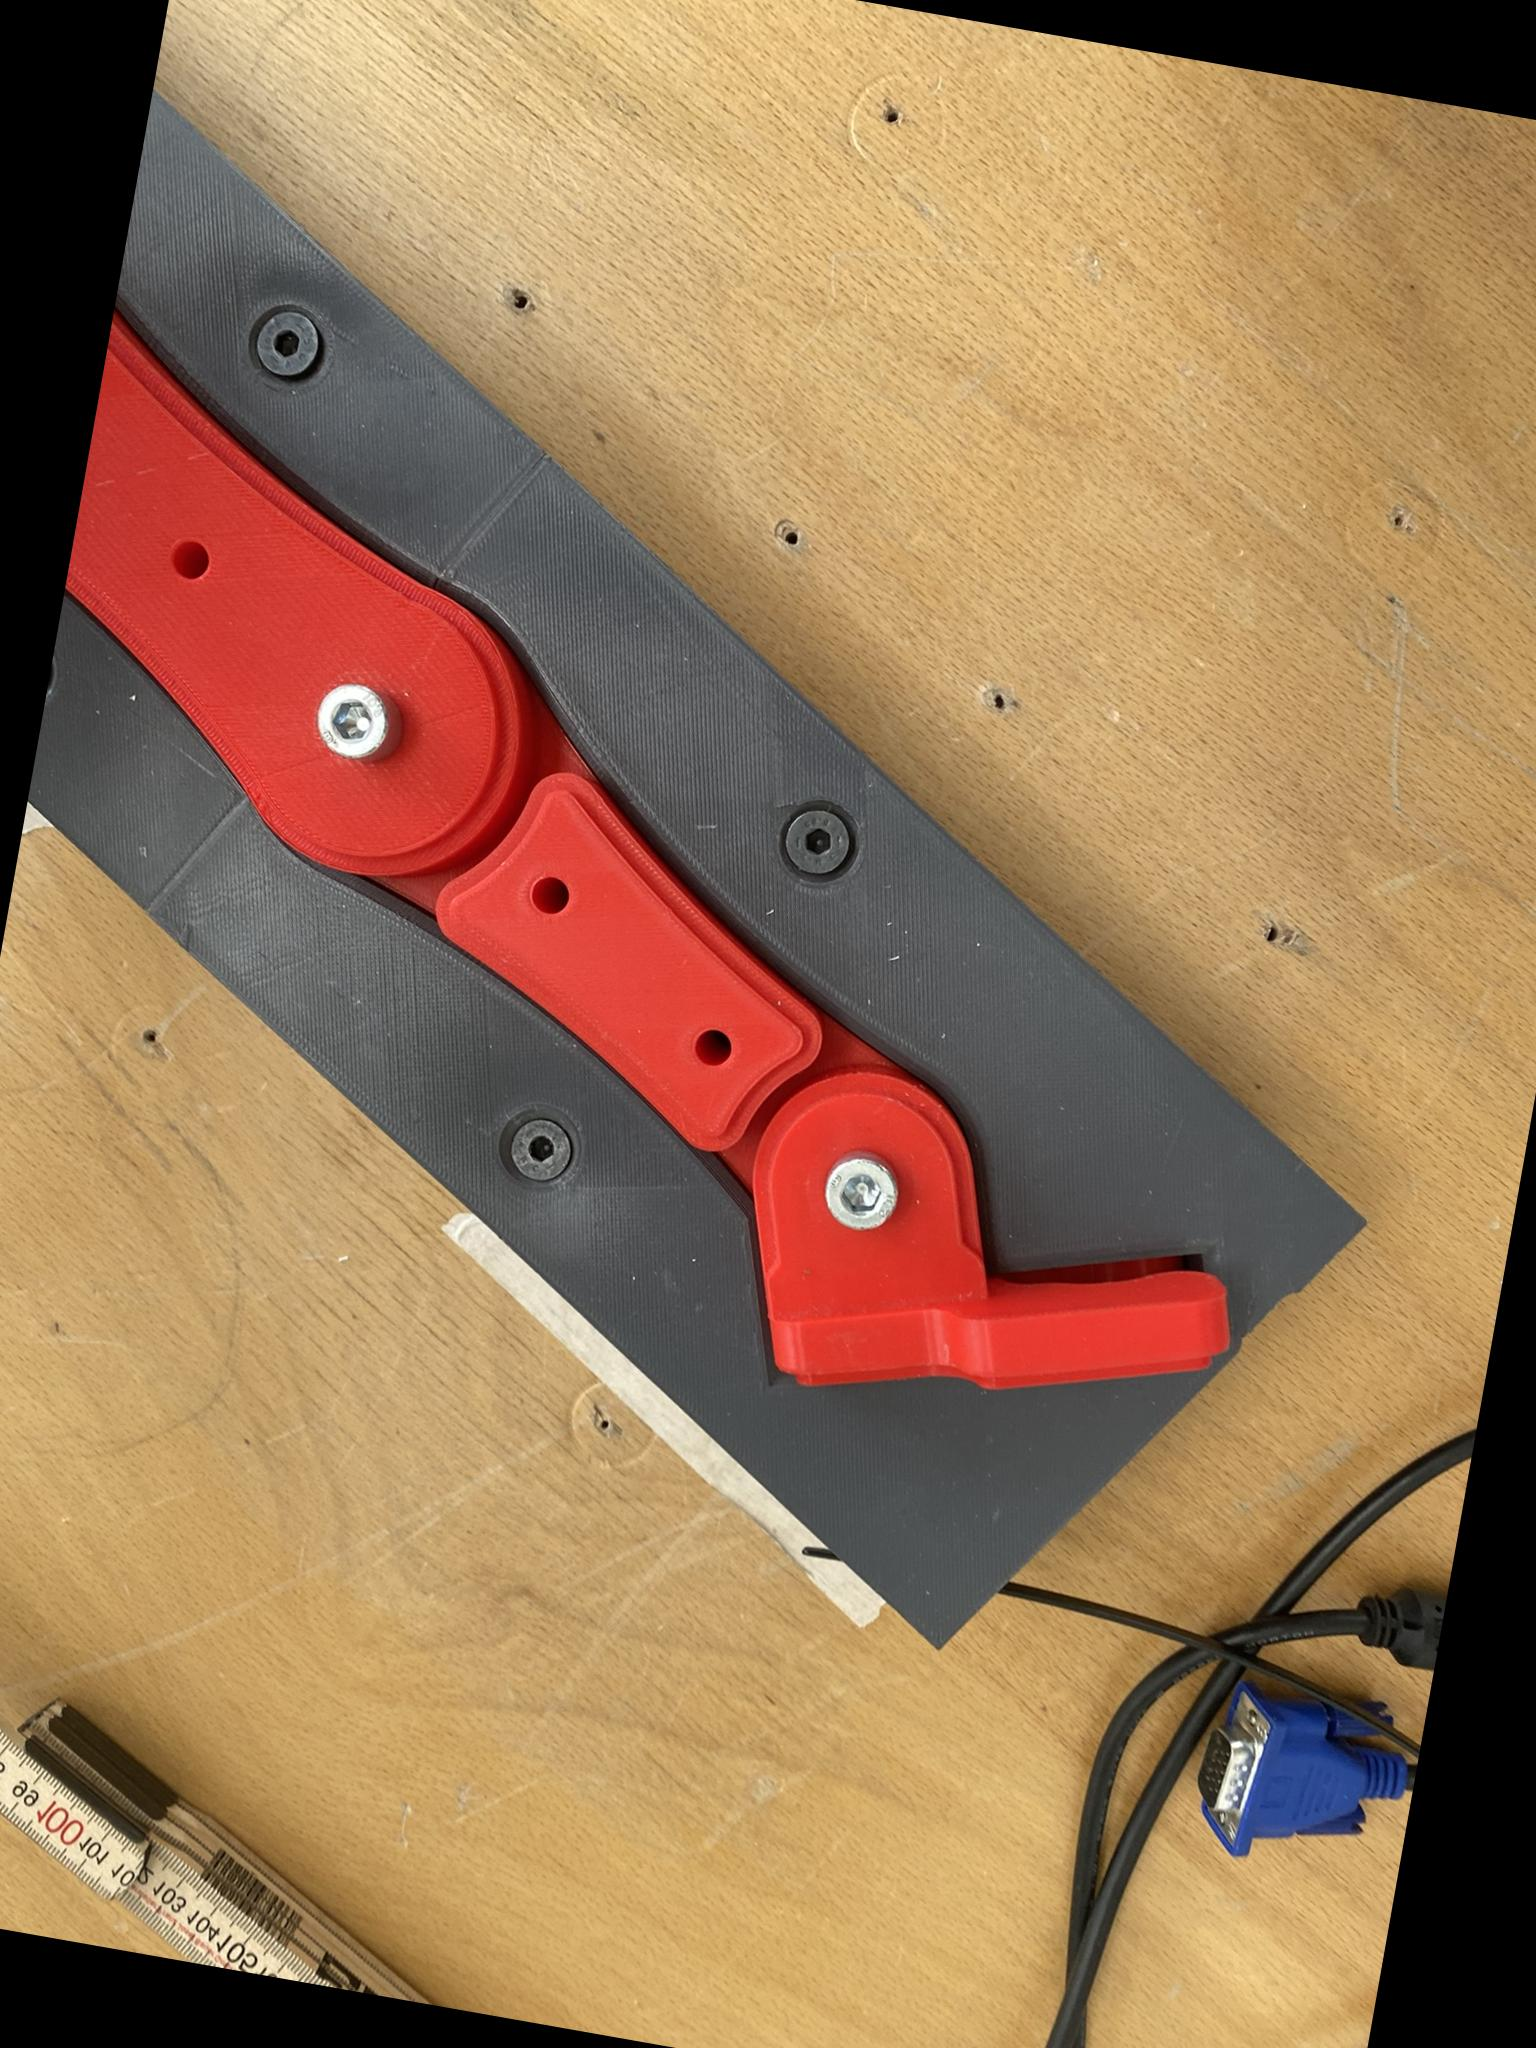H: (821, 1147, 907, 1237), (310, 677, 399, 763), (779, 800, 860, 884), (250, 302, 328, 382), (503, 1111, 579, 1185)
